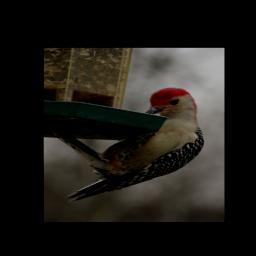Woodpecker: (63, 87, 203, 206)
